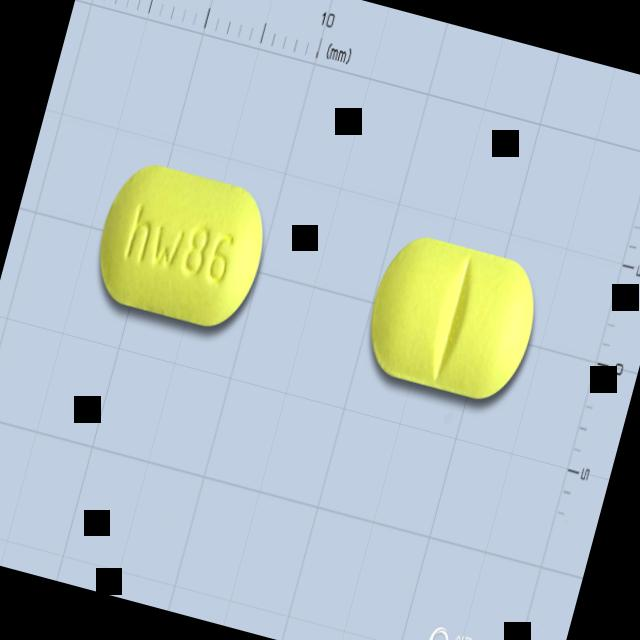Ceclacin: (84, 151, 278, 339), (357, 224, 549, 410)
